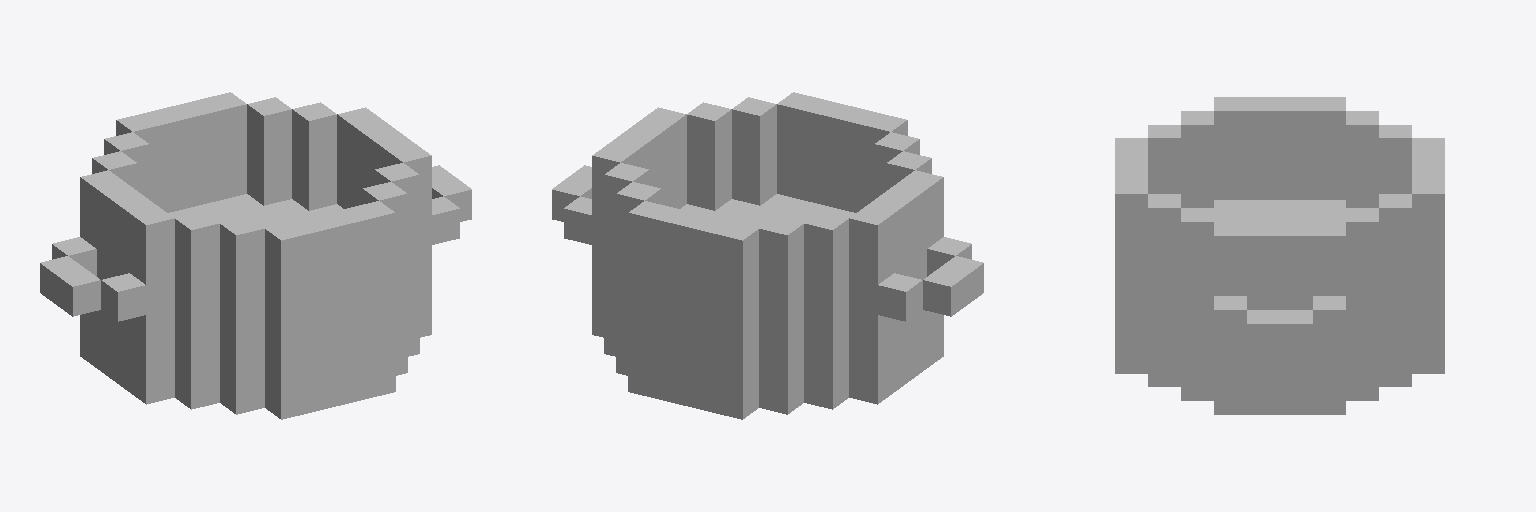
File: hardcook_cooking_pot_fill_half.obj
3 renders of one model, left to right at view 1: azimuth 30°, elevation 25°; view 2: azimuth 150°, elevation 25°; view 3: azimuth 270°, elevation 25°, orthographic.
Visible parts, largest first — view 1: node_0_0_0.006, node_0_0_0.009; view 2: node_0_0_0.006, node_0_0_0.009; view 3: node_0_0_0.006, node_0_0_0.009.
Part boxes in pixels (bbox=[...]): node_0_0_0.006: bbox=[40, 92, 471, 419]; node_0_0_0.009: bbox=[168, 194, 342, 227]; node_0_0_0.006: bbox=[552, 92, 983, 419]; node_0_0_0.009: bbox=[681, 194, 855, 227]; node_0_0_0.006: bbox=[1115, 97, 1444, 414]; node_0_0_0.009: bbox=[1214, 200, 1345, 221].
Size of the model in its own units: 0.875 by 0.375 by 0.625.